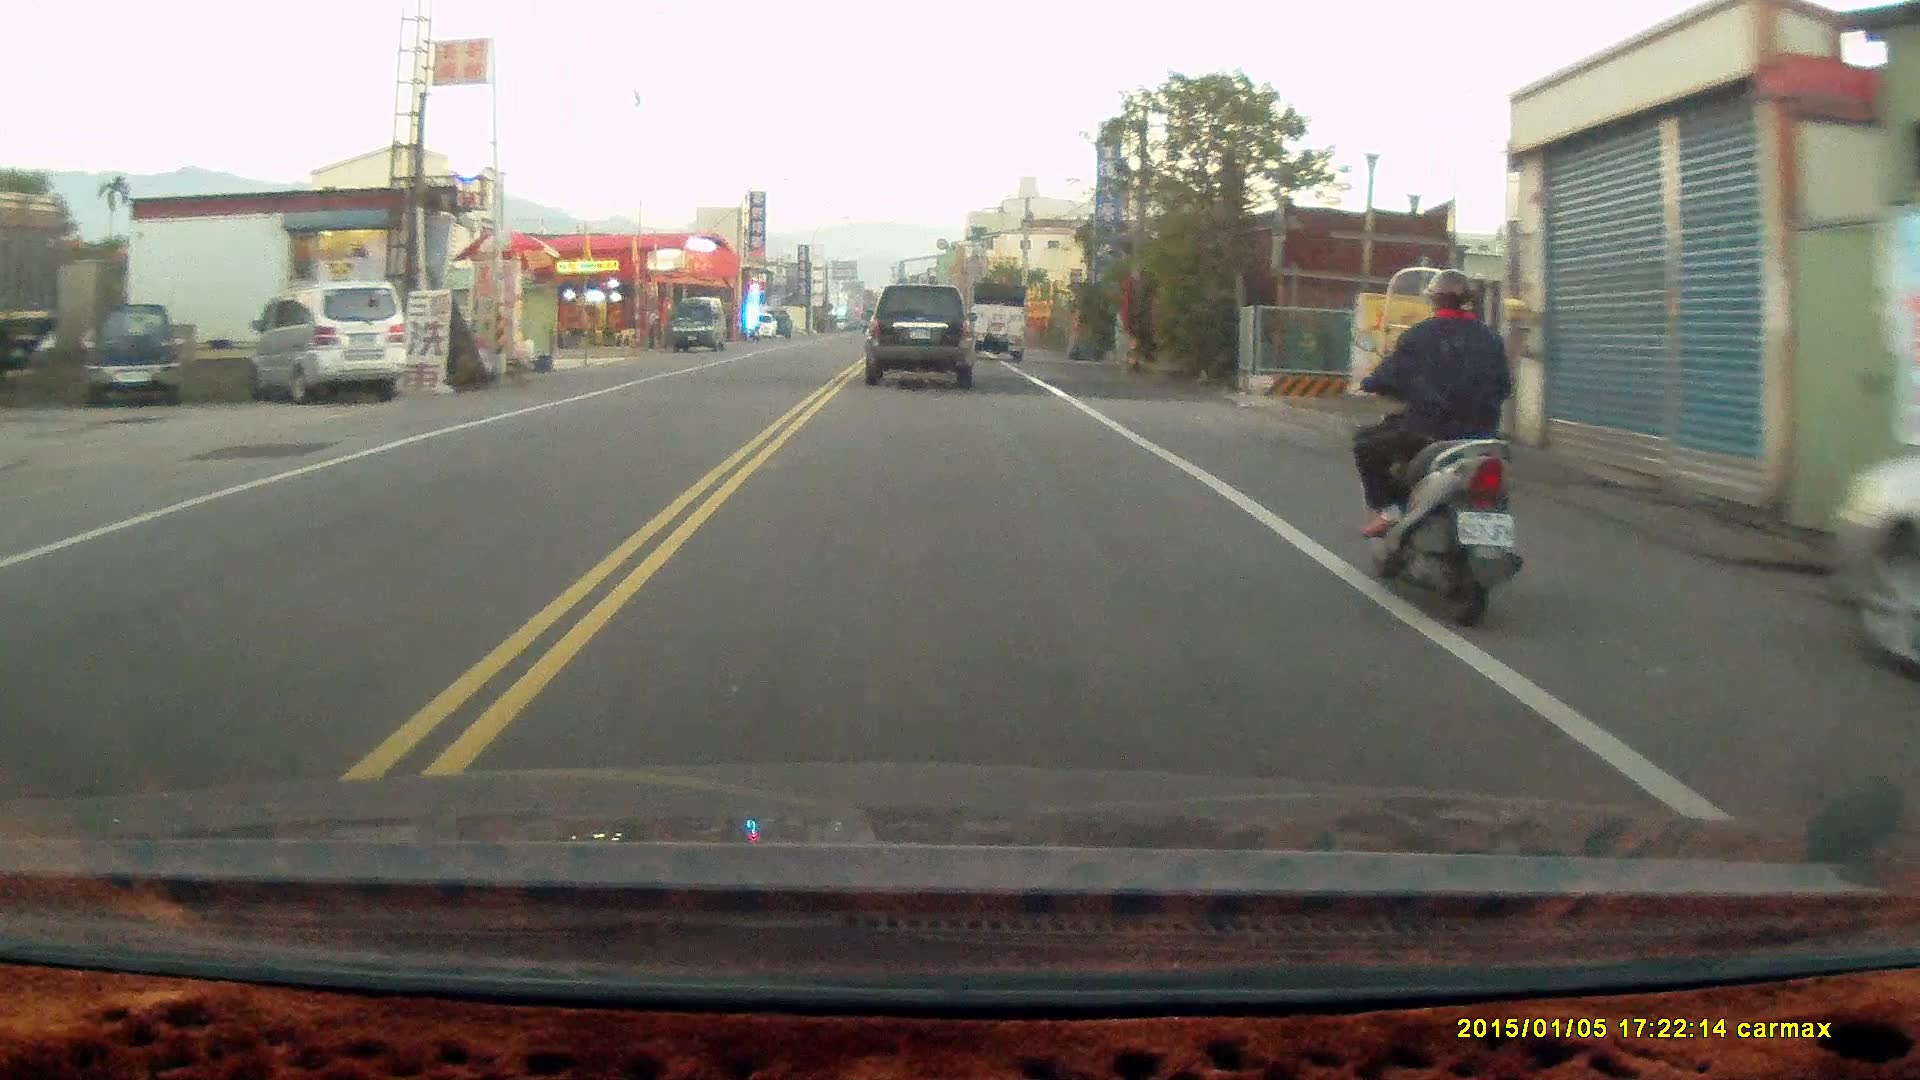rider: (1352, 261, 1526, 624)
vehicle: (1823, 365, 1919, 679), (247, 276, 404, 407), (864, 279, 982, 391), (79, 303, 183, 409), (968, 279, 1029, 359), (664, 297, 724, 349)
